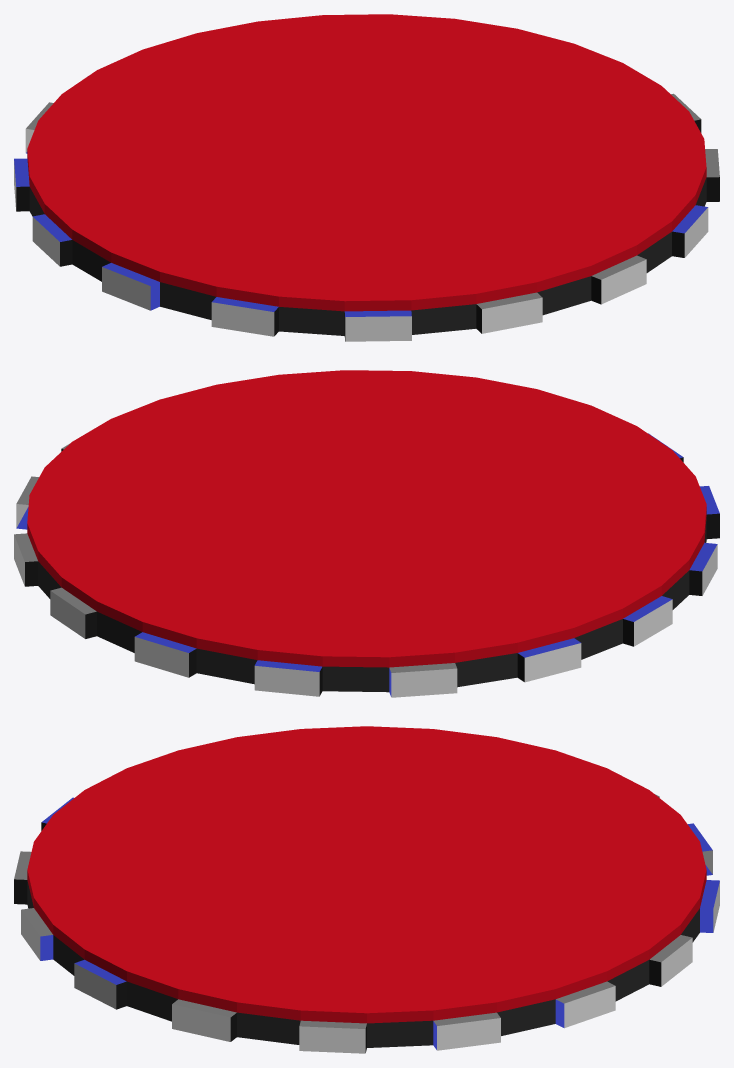
Rendered from CarStandVer7.fbx.
3 renders of one model, top to bottom at view 1: azimuth 30°, elevation 25°; view 2: azimuth 150°, elevation 25°; view 3: azimuth 270°, elevation 25°, orthographic.
Parts seen in each view (by area): view 1: Cylinder.002, Reverse, Cylinder.001, Cylinder.003, Cylinder.004, Cylinder.005, Reverse2; view 2: Cylinder.002, Reverse, Cylinder.001, Cylinder.003, Cylinder.004, Cylinder.005, Reverse2; view 3: Cylinder.002, Reverse, Cylinder.001, Reverse2, Cylinder.004, Cylinder.003, Cylinder.005, Cylinder.
Boxes of the visible parts, left/top/right/bottom form: Cylinder.002: left=27, top=14, right=706, bottom=311; Reverse: left=14, top=128, right=708, bottom=341; Cylinder.001: left=29, top=177, right=706, bottom=335; Cylinder.003: left=14, top=152, right=707, bottom=316; Cylinder.004: left=14, top=129, right=708, bottom=341; Cylinder.005: left=16, top=119, right=719, bottom=341; Reverse2: left=26, top=93, right=719, bottom=309; Cylinder.002: left=27, top=370, right=706, bottom=667; Reverse: left=14, top=504, right=717, bottom=697; Cylinder.001: left=38, top=517, right=706, bottom=692; Cylinder.003: left=16, top=433, right=719, bottom=696; Cylinder.004: left=14, top=504, right=717, bottom=696; Cylinder.005: left=25, top=449, right=719, bottom=695; Reverse2: left=14, top=443, right=456, bottom=672; Cylinder.002: left=27, top=726, right=706, bottom=1023; Reverse: left=21, top=796, right=719, bottom=1053; Cylinder.001: left=27, top=880, right=699, bottom=1047; Reverse2: left=14, top=794, right=691, bottom=1028; Cylinder.004: left=21, top=850, right=719, bottom=1052; Cylinder.003: left=40, top=797, right=719, bottom=1049; Cylinder.005: left=14, top=822, right=661, bottom=1052; Cylinder: left=14, top=794, right=689, bottom=1028.
Bounding box in the file's own units: 1010 × 54.97 × 1010.
